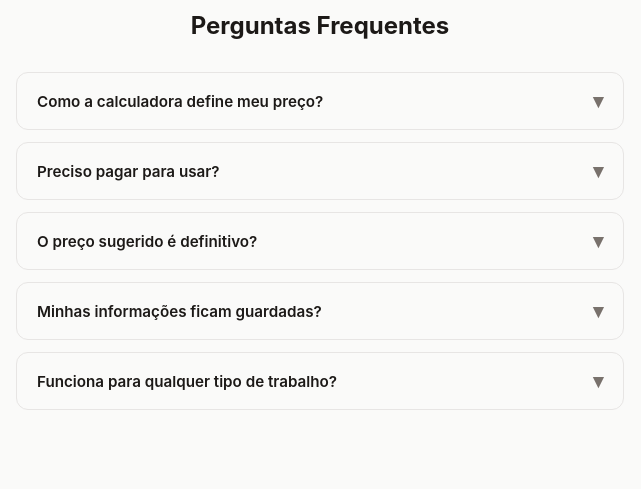
FAQAccordion › second answer mentions R$ 9,90 and R$ 29/mês
The width and height of the screenshot is (641, 489).
What coordinates should you click on to do the following:
click the button "Preciso pagar para usar? ▾"
I would click on:
 (128, 171)
Its box is left=17, top=143, right=623, bottom=199.
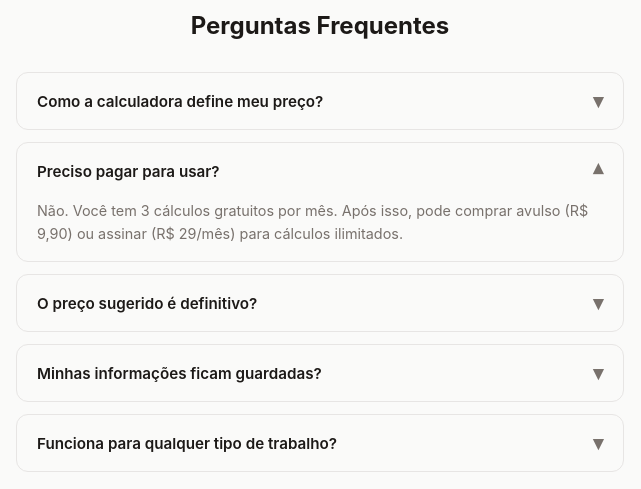
expect the text with class "faq-answer" shows "R$ 9,90": met, box left=37, top=202, right=588, bottom=242
expect the text with class "faq-answer" shows "R$ 29/mês": met, box left=37, top=202, right=588, bottom=242
